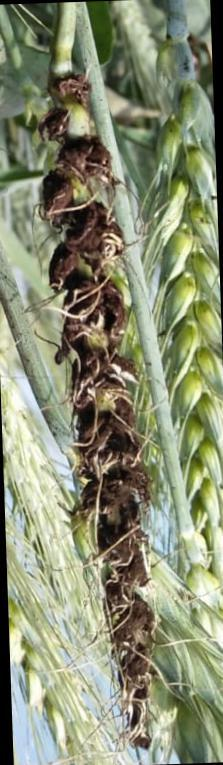Wheat: (166, 381, 220, 440), (165, 161, 211, 221), (161, 101, 208, 151), (84, 423, 130, 474), (171, 288, 219, 328), (60, 215, 108, 253), (66, 325, 117, 359), (75, 371, 122, 406), (171, 235, 216, 271), (70, 268, 109, 309), (173, 338, 218, 368), (112, 593, 150, 628), (100, 483, 138, 516), (65, 148, 107, 176), (105, 546, 143, 575), (181, 448, 218, 476), (121, 645, 153, 670), (193, 488, 214, 518), (61, 75, 81, 99), (46, 176, 63, 198), (56, 116, 63, 135), (125, 688, 126, 702)
